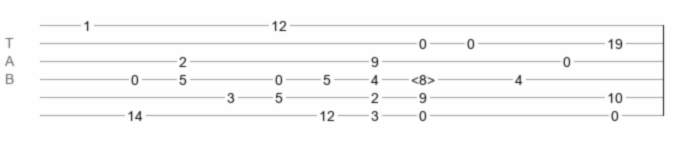0: (131, 72, 139, 82), (275, 72, 283, 82), (419, 36, 427, 46), (419, 108, 427, 118), (467, 36, 475, 46), (563, 54, 571, 64), (611, 108, 619, 118)
1: (83, 18, 91, 28)
10: (607, 90, 623, 100)
12: (271, 18, 287, 28), (319, 108, 335, 118)
14: (127, 108, 143, 118)
19: (607, 36, 623, 46)
2: (179, 54, 187, 64), (371, 90, 379, 100)
3: (227, 90, 235, 100), (371, 108, 379, 118)
4: (371, 72, 379, 82), (515, 72, 523, 82)
5: (179, 72, 187, 82), (275, 90, 283, 100), (323, 72, 331, 82)
9: (371, 54, 379, 64), (419, 90, 427, 100)
harmonic: (411, 72, 435, 82)
